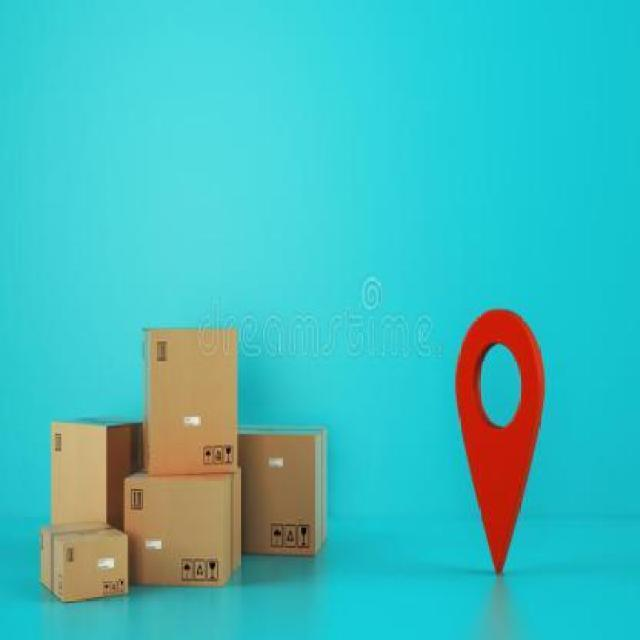box: (144, 322, 236, 476), (127, 468, 245, 586), (238, 425, 328, 562), (48, 414, 140, 534), (42, 520, 128, 606)
